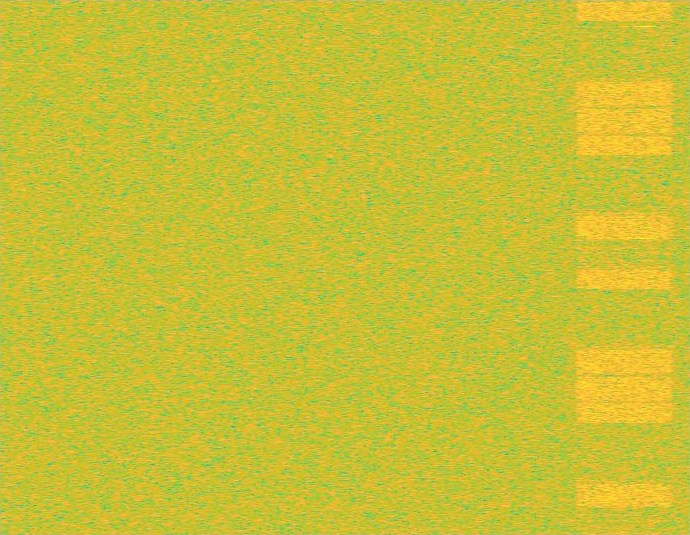LTE: (573, 0, 676, 534)
Radar: (638, 0, 652, 534)
